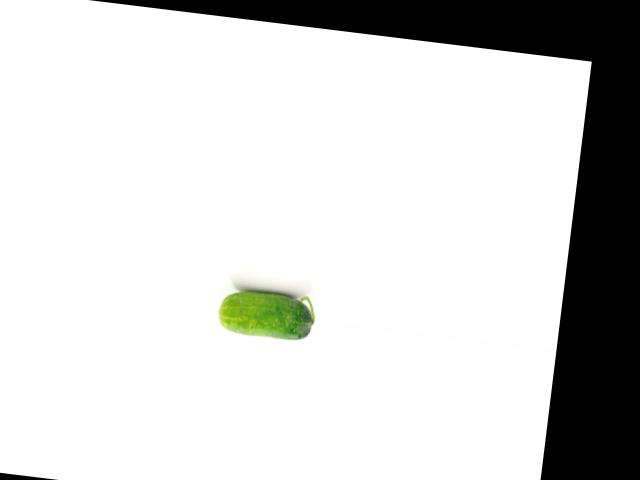cucumber: (214, 285, 316, 342)
